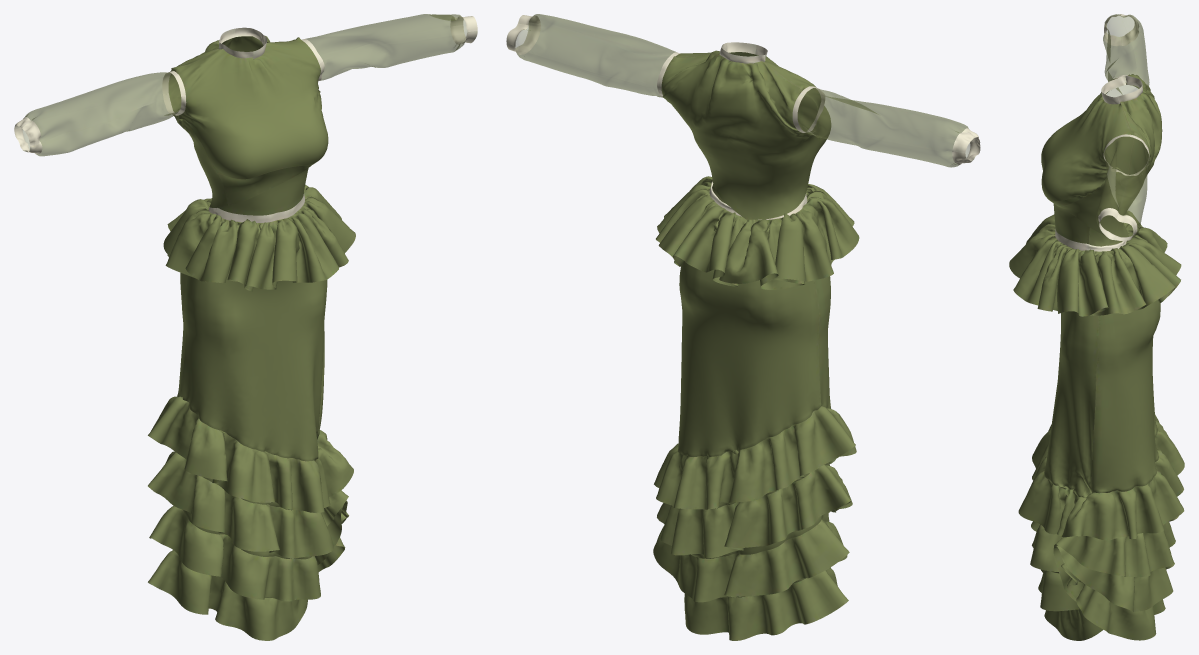
The model's file is G_clothe_Olive.glb.
The picture shows the model from 3 angles, left to right: view 1: azimuth 30°, elevation 25°; view 2: azimuth 150°, elevation 25°; view 3: azimuth 270°, elevation 25°; orthographic projection. The views are drawn at different scales.
Visible parts, largest first — view 1: Garment; view 2: Garment; view 3: Garment.
Boxes of the visible parts, x1=… form: Garment: x1=14, y1=14, x2=477, y2=640; Garment: x1=506, y1=14, x2=980, y2=640; Garment: x1=1009, y1=14, x2=1184, y2=640.
Size of the model in its own units: 1.15 by 1.41 by 0.4119.
1 material, 1 textured.
